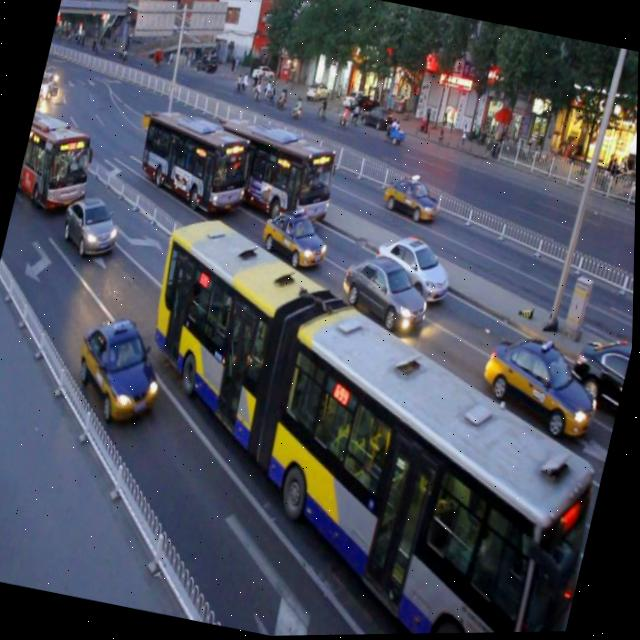car: (474, 326, 609, 444), (65, 312, 172, 425), (333, 245, 439, 342), (369, 225, 459, 308), (256, 202, 334, 275), (57, 188, 127, 264), (568, 330, 634, 406), (377, 165, 445, 231), (177, 110, 221, 157)
van: (84, 205, 636, 639), (202, 109, 347, 233), (131, 102, 263, 224), (14, 106, 104, 219)
